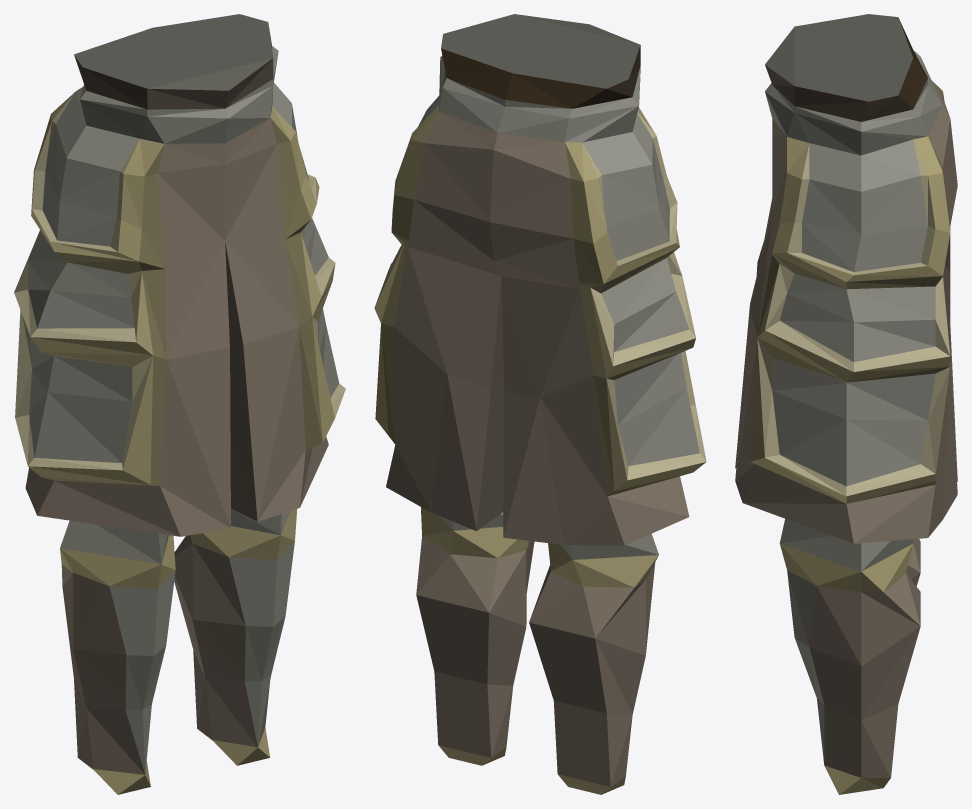
3 renders of one model, left to right at view 1: azimuth 30°, elevation 25°; view 2: azimuth 150°, elevation 25°; view 3: azimuth 270°, elevation 25°, orthographic. The views are drawn at different scales.
Size of the model in its own units: 48 by 104 by 30.
